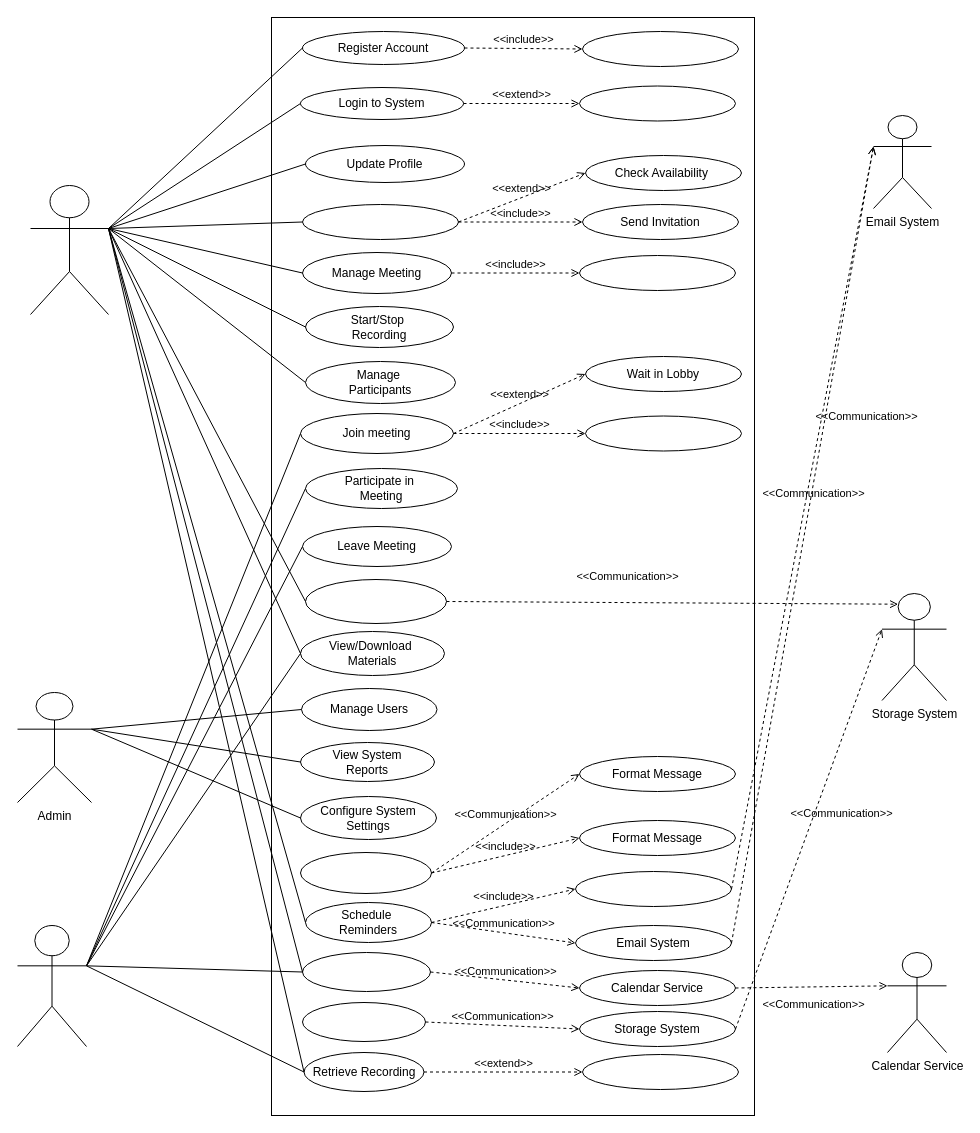
Some shapes in this 980 by 1133 pixel diagram are drawn without their labels. The shapes that lost their labels are listed below. From the top down, each one's centre as x and y in pixels, then its label:
the point at 660,48: Validate Email
the point at 657,103: Reset Password
the point at 380,222: Schedule Meeting
the point at 69,249: Host
the point at 657,272: Notify Participants
the point at 663,433: Authenticate
the point at 375,601: Upload/Share Materials
the point at 366,873: Send Notifications
the point at 653,888: Select Recipients
the point at 51,985: Participant
the point at 366,972: Sync with calendar
the point at 364,1022: Store Recording
the point at 660,1072: Share Recording Link
